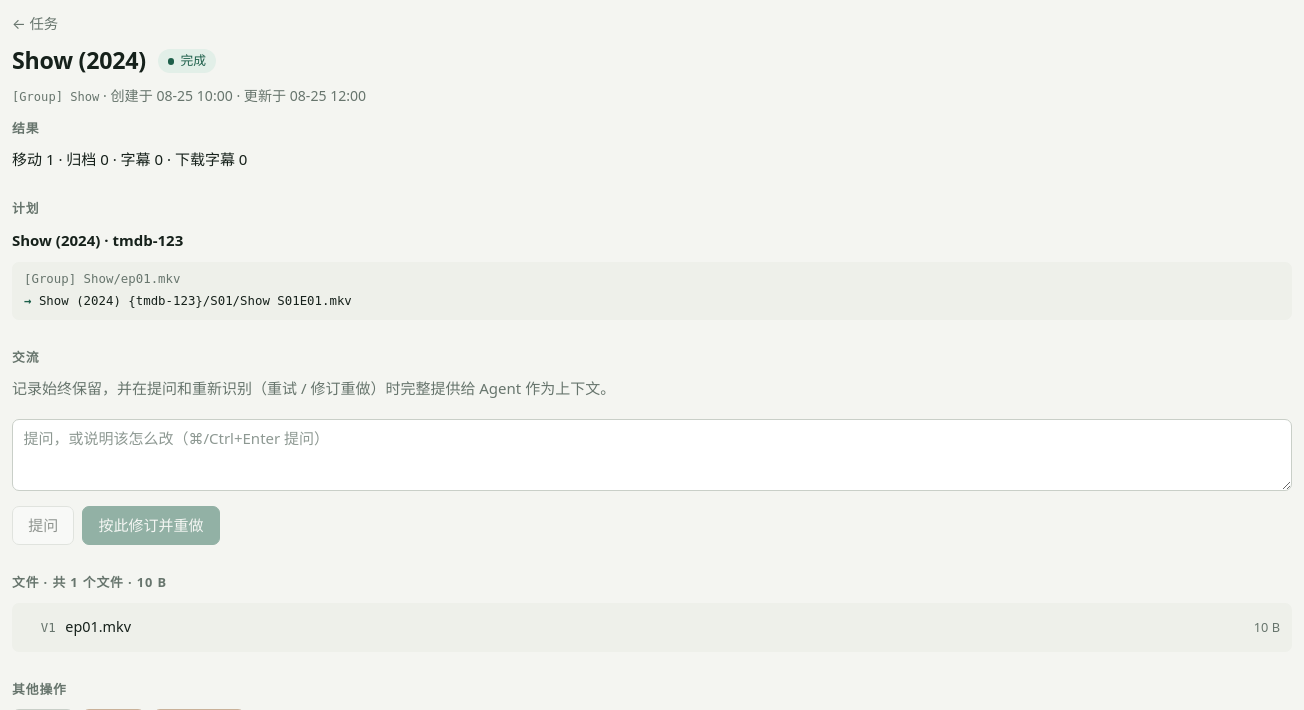
Test: run detail page › clears the input and echoes the question while waiting
This screenshot has width=1304, height=710.
Type "第几季？" into the text box with placeholder "提问，或说明该怎么改（⌘/Ctrl+Enter 提问）" at (652, 455), box [12,419,1292,491]
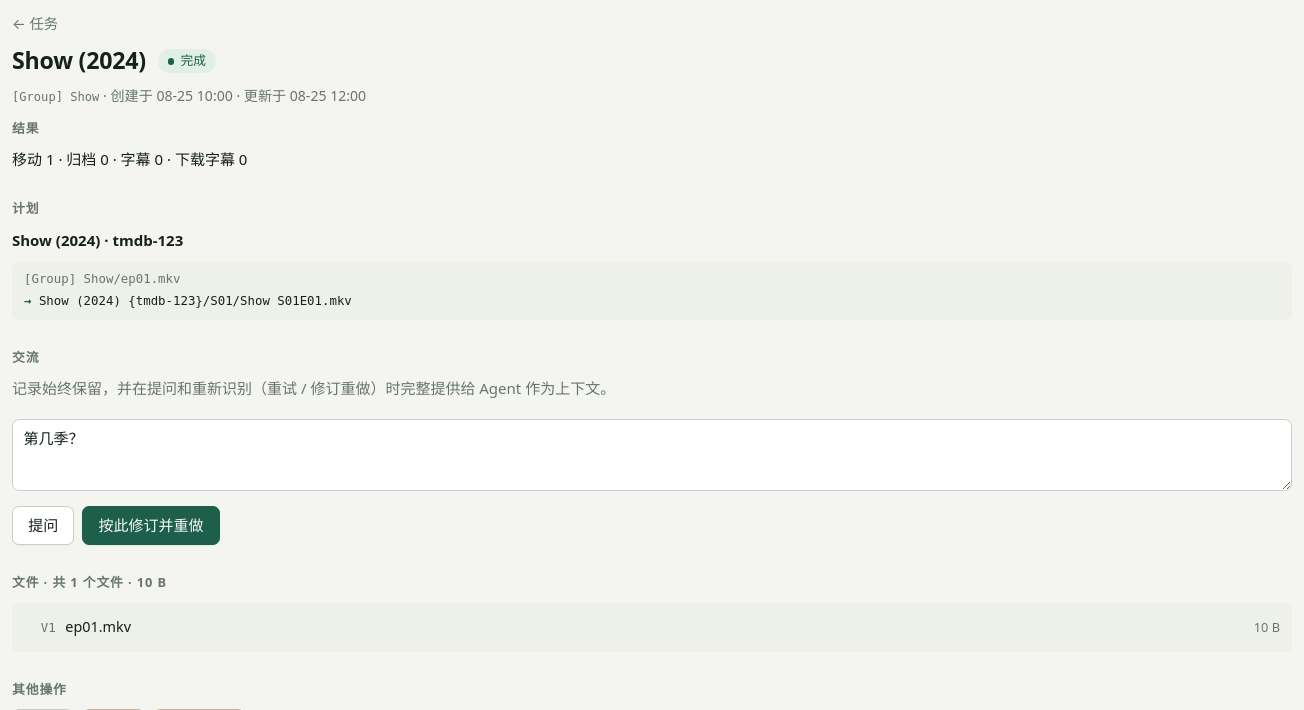
Click the button "提问" at (43, 526), box [12,506,74,545]
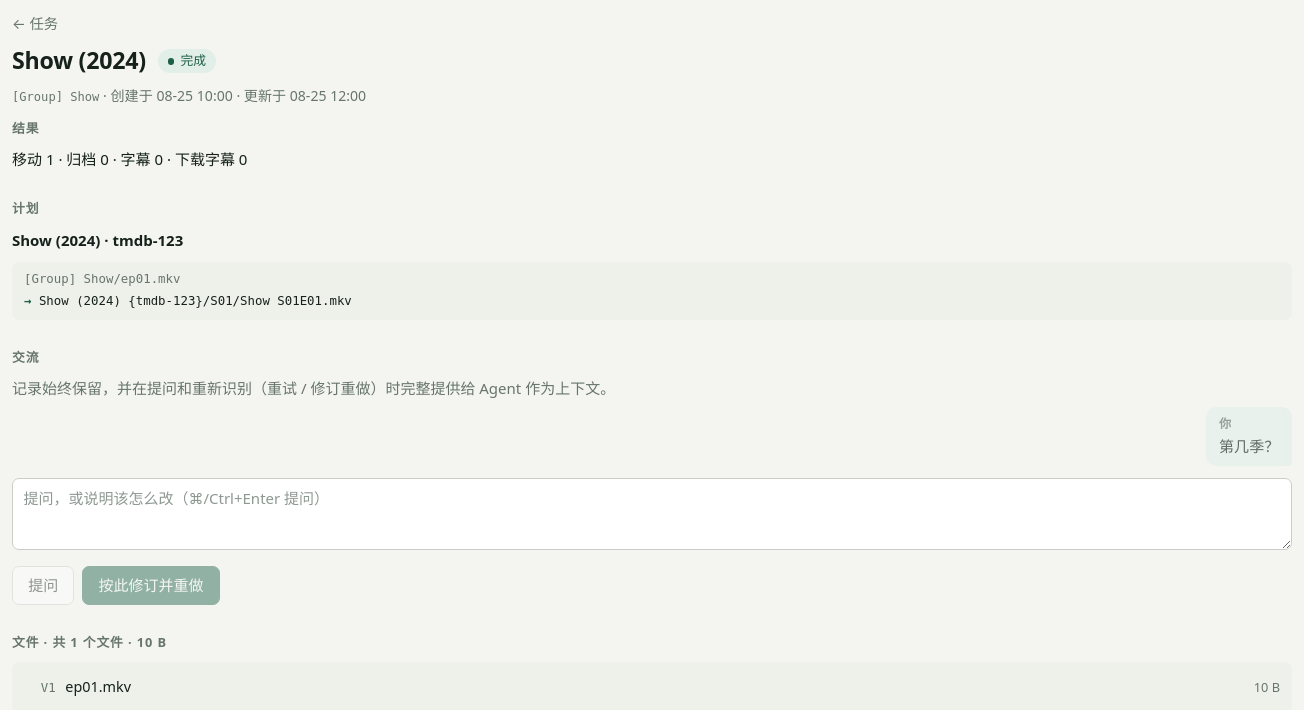
Check: the button "回答中…" is shown, box [12,566,74,605]
Check: the text box with placeholder "提问，或说明该怎么改（⌘/Ctrl+Enter 提问）" is empty, box [12,478,1292,550]
Check: the text "第几季？" is shown, box [1219,435,1279,458]
